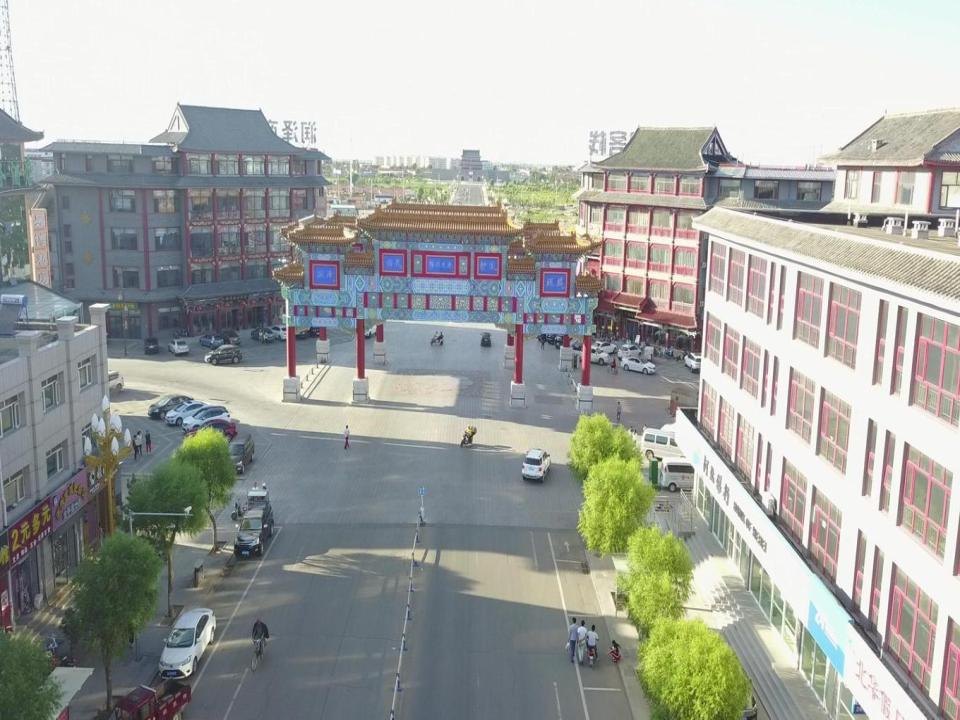car: (697, 649, 757, 720), (160, 608, 216, 677), (234, 502, 274, 558), (186, 420, 236, 448), (147, 394, 193, 422), (183, 405, 229, 431), (166, 401, 208, 427), (520, 448, 552, 482), (90, 370, 125, 399), (204, 345, 242, 366), (619, 357, 657, 376), (578, 348, 610, 364), (617, 342, 642, 362), (219, 329, 241, 351), (284, 321, 308, 340), (684, 351, 704, 373), (303, 315, 325, 335), (358, 319, 378, 340), (252, 328, 276, 344), (594, 340, 617, 356), (167, 340, 189, 356), (201, 332, 223, 348), (270, 324, 290, 341), (144, 336, 160, 356), (555, 331, 571, 349), (546, 328, 562, 346), (536, 324, 552, 342), (480, 332, 492, 348)
van: (642, 428, 693, 465), (661, 456, 712, 492), (226, 433, 254, 476)
